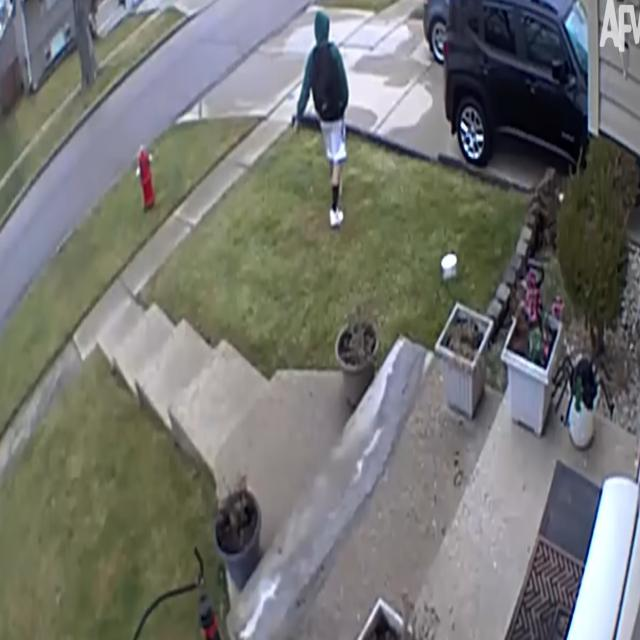standing: (295, 10, 349, 228)
